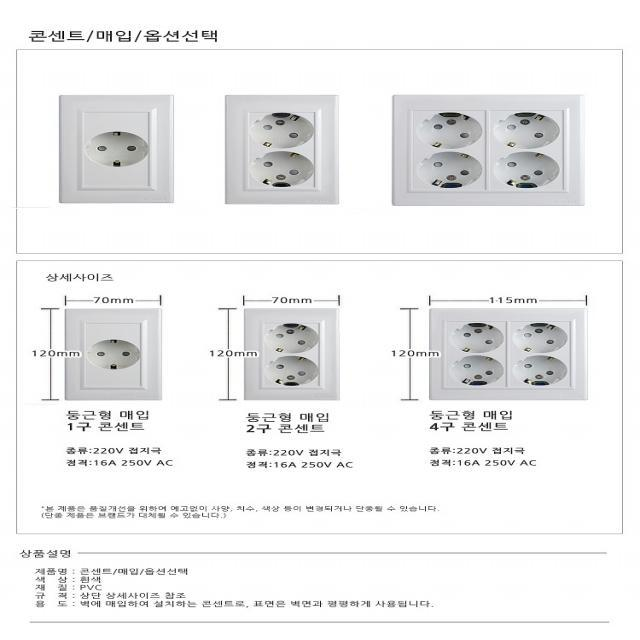typeb: (382, 85, 588, 218), (214, 83, 362, 217), (50, 86, 192, 219)
